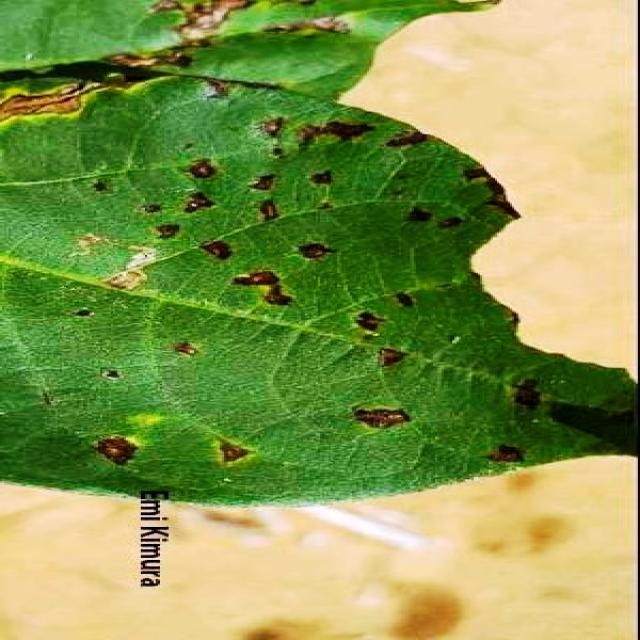Bacterial Blight: (24, 4, 411, 422)
